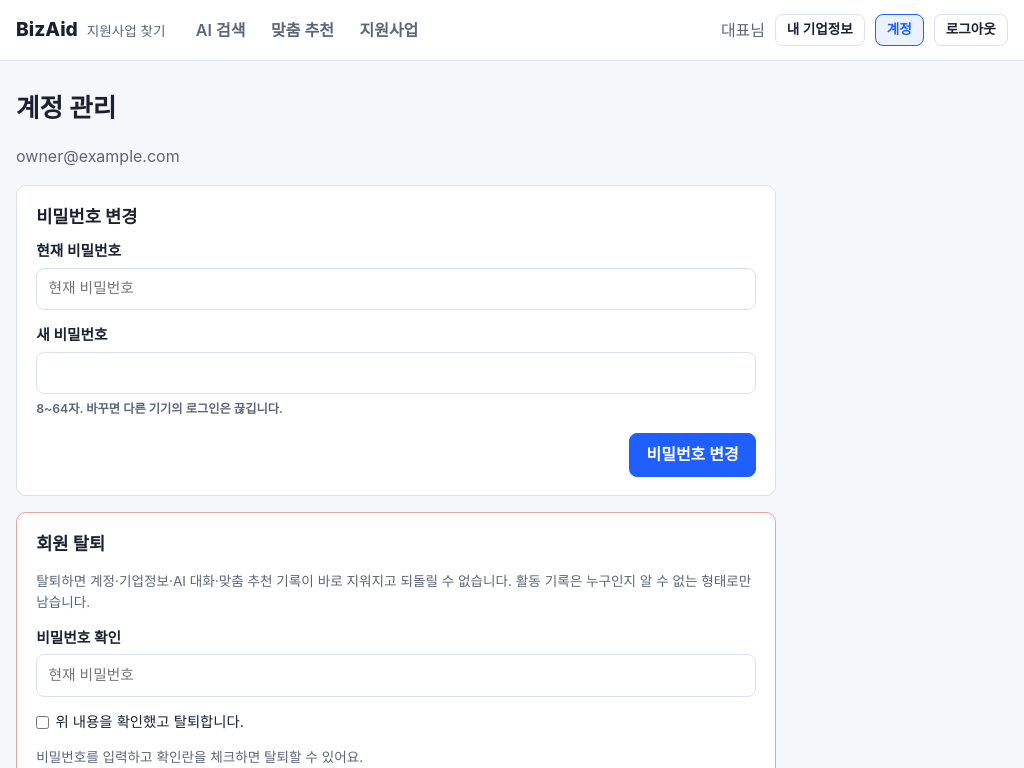
it: 비밀번호를 바꾸면 새 토큰을 받고 변경 완료를 보여 준다
The width and height of the screenshot is (1024, 768).
Type "password123" into the password field labelled "현재 비밀번호". click: [396, 289]
box: [36,268,756,310]
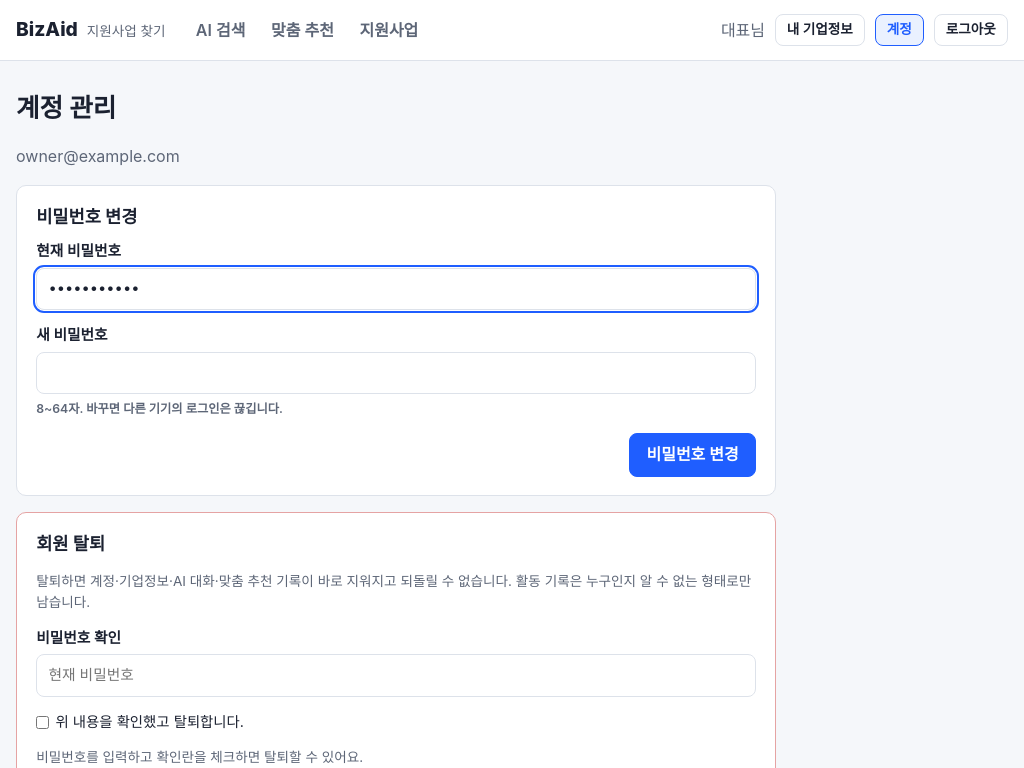
Type "newpassword456" into the password field labelled "새 비밀번호 8~64자. 바꾸면 다른 기기의 로그인은 끊깁니다.". click: [396, 373]
box: [36,352,756,394]
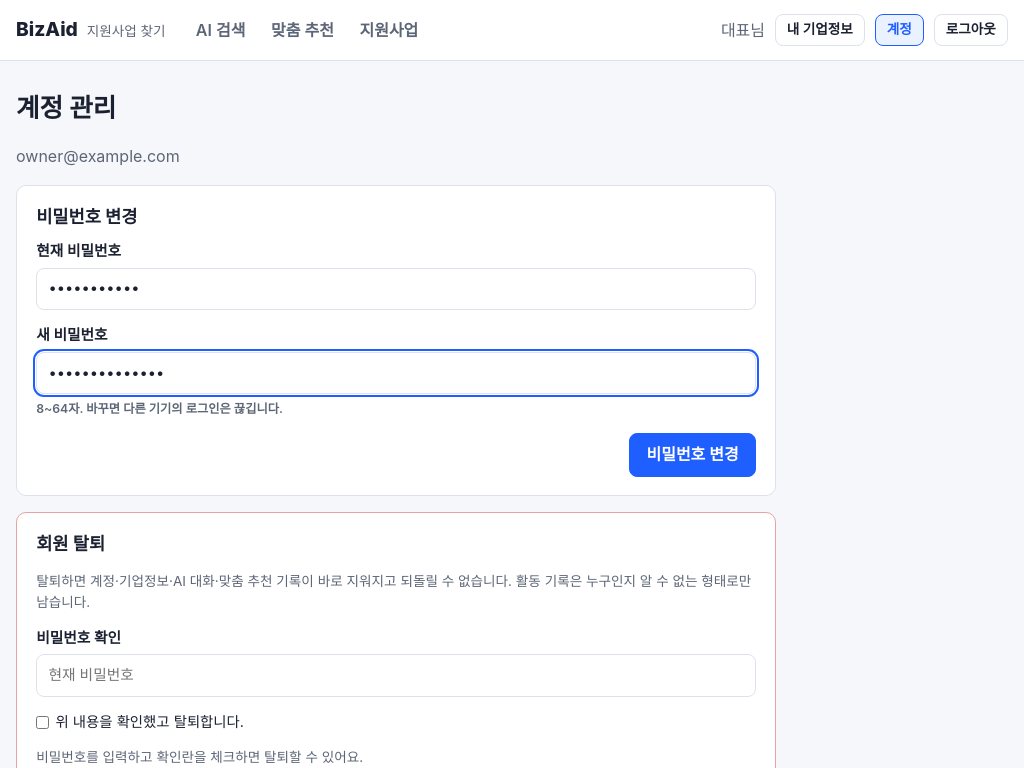
Click the button "비밀번호 변경". click: [693, 455]
box: [630,433,756,477]
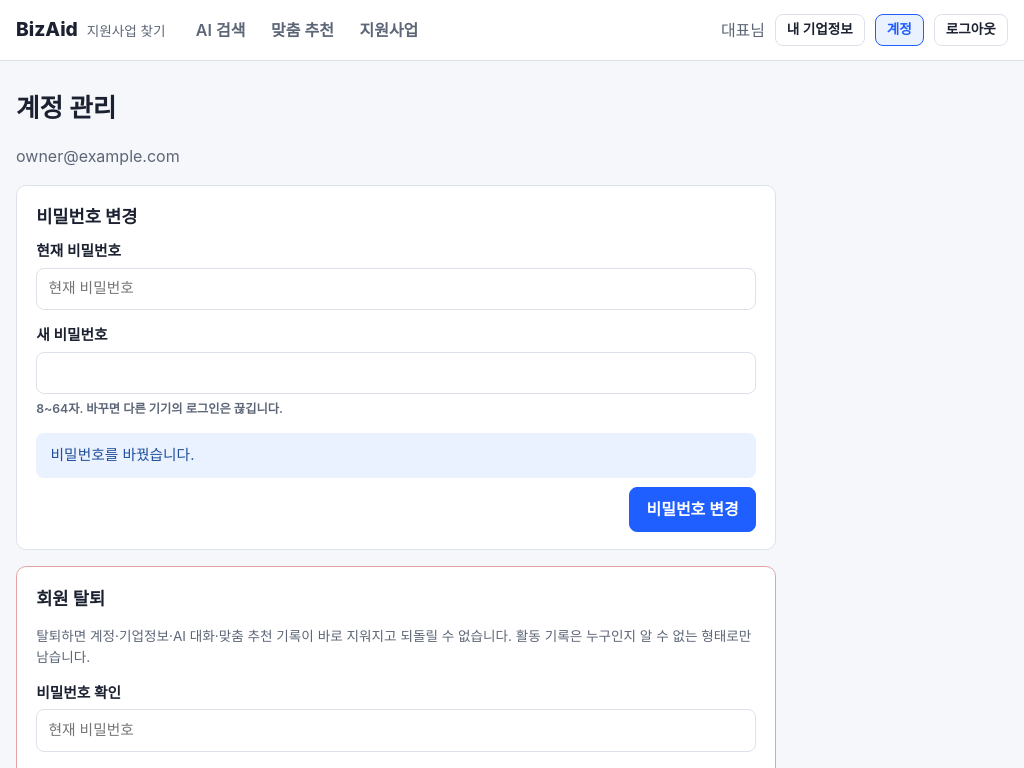
Check: the text "비밀번호를 바꿨습니다." is shown, box [36,433,756,478]
